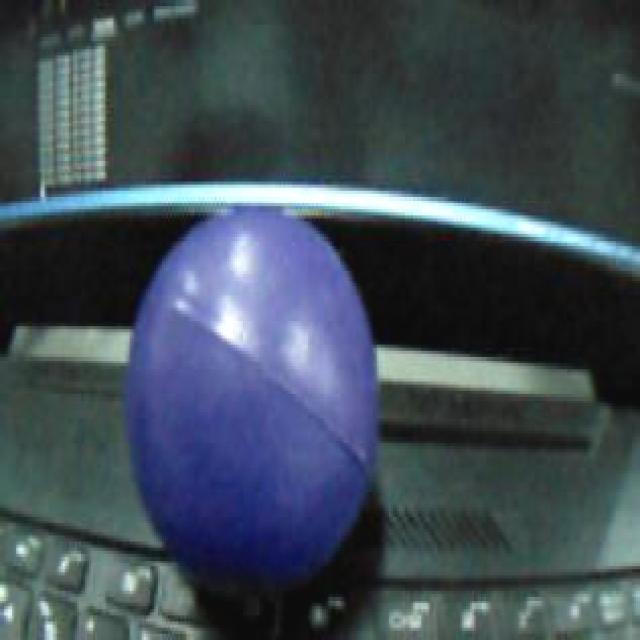BallPurple: (128, 212, 377, 591)
